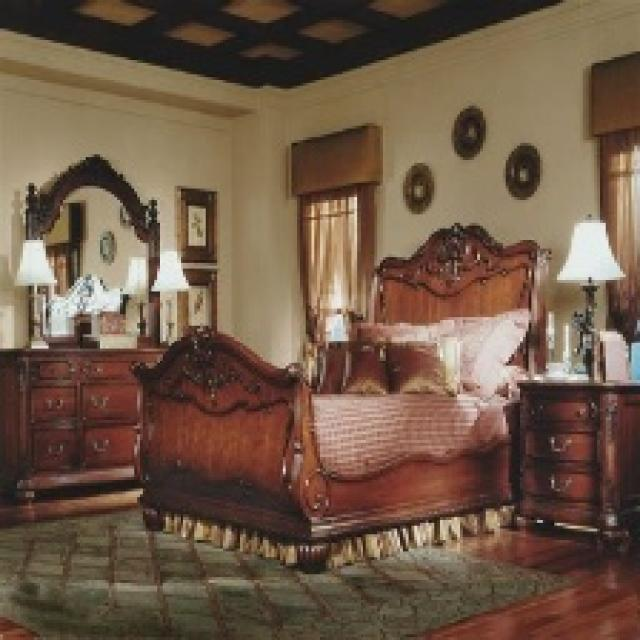Bed: (128, 220, 552, 571)
